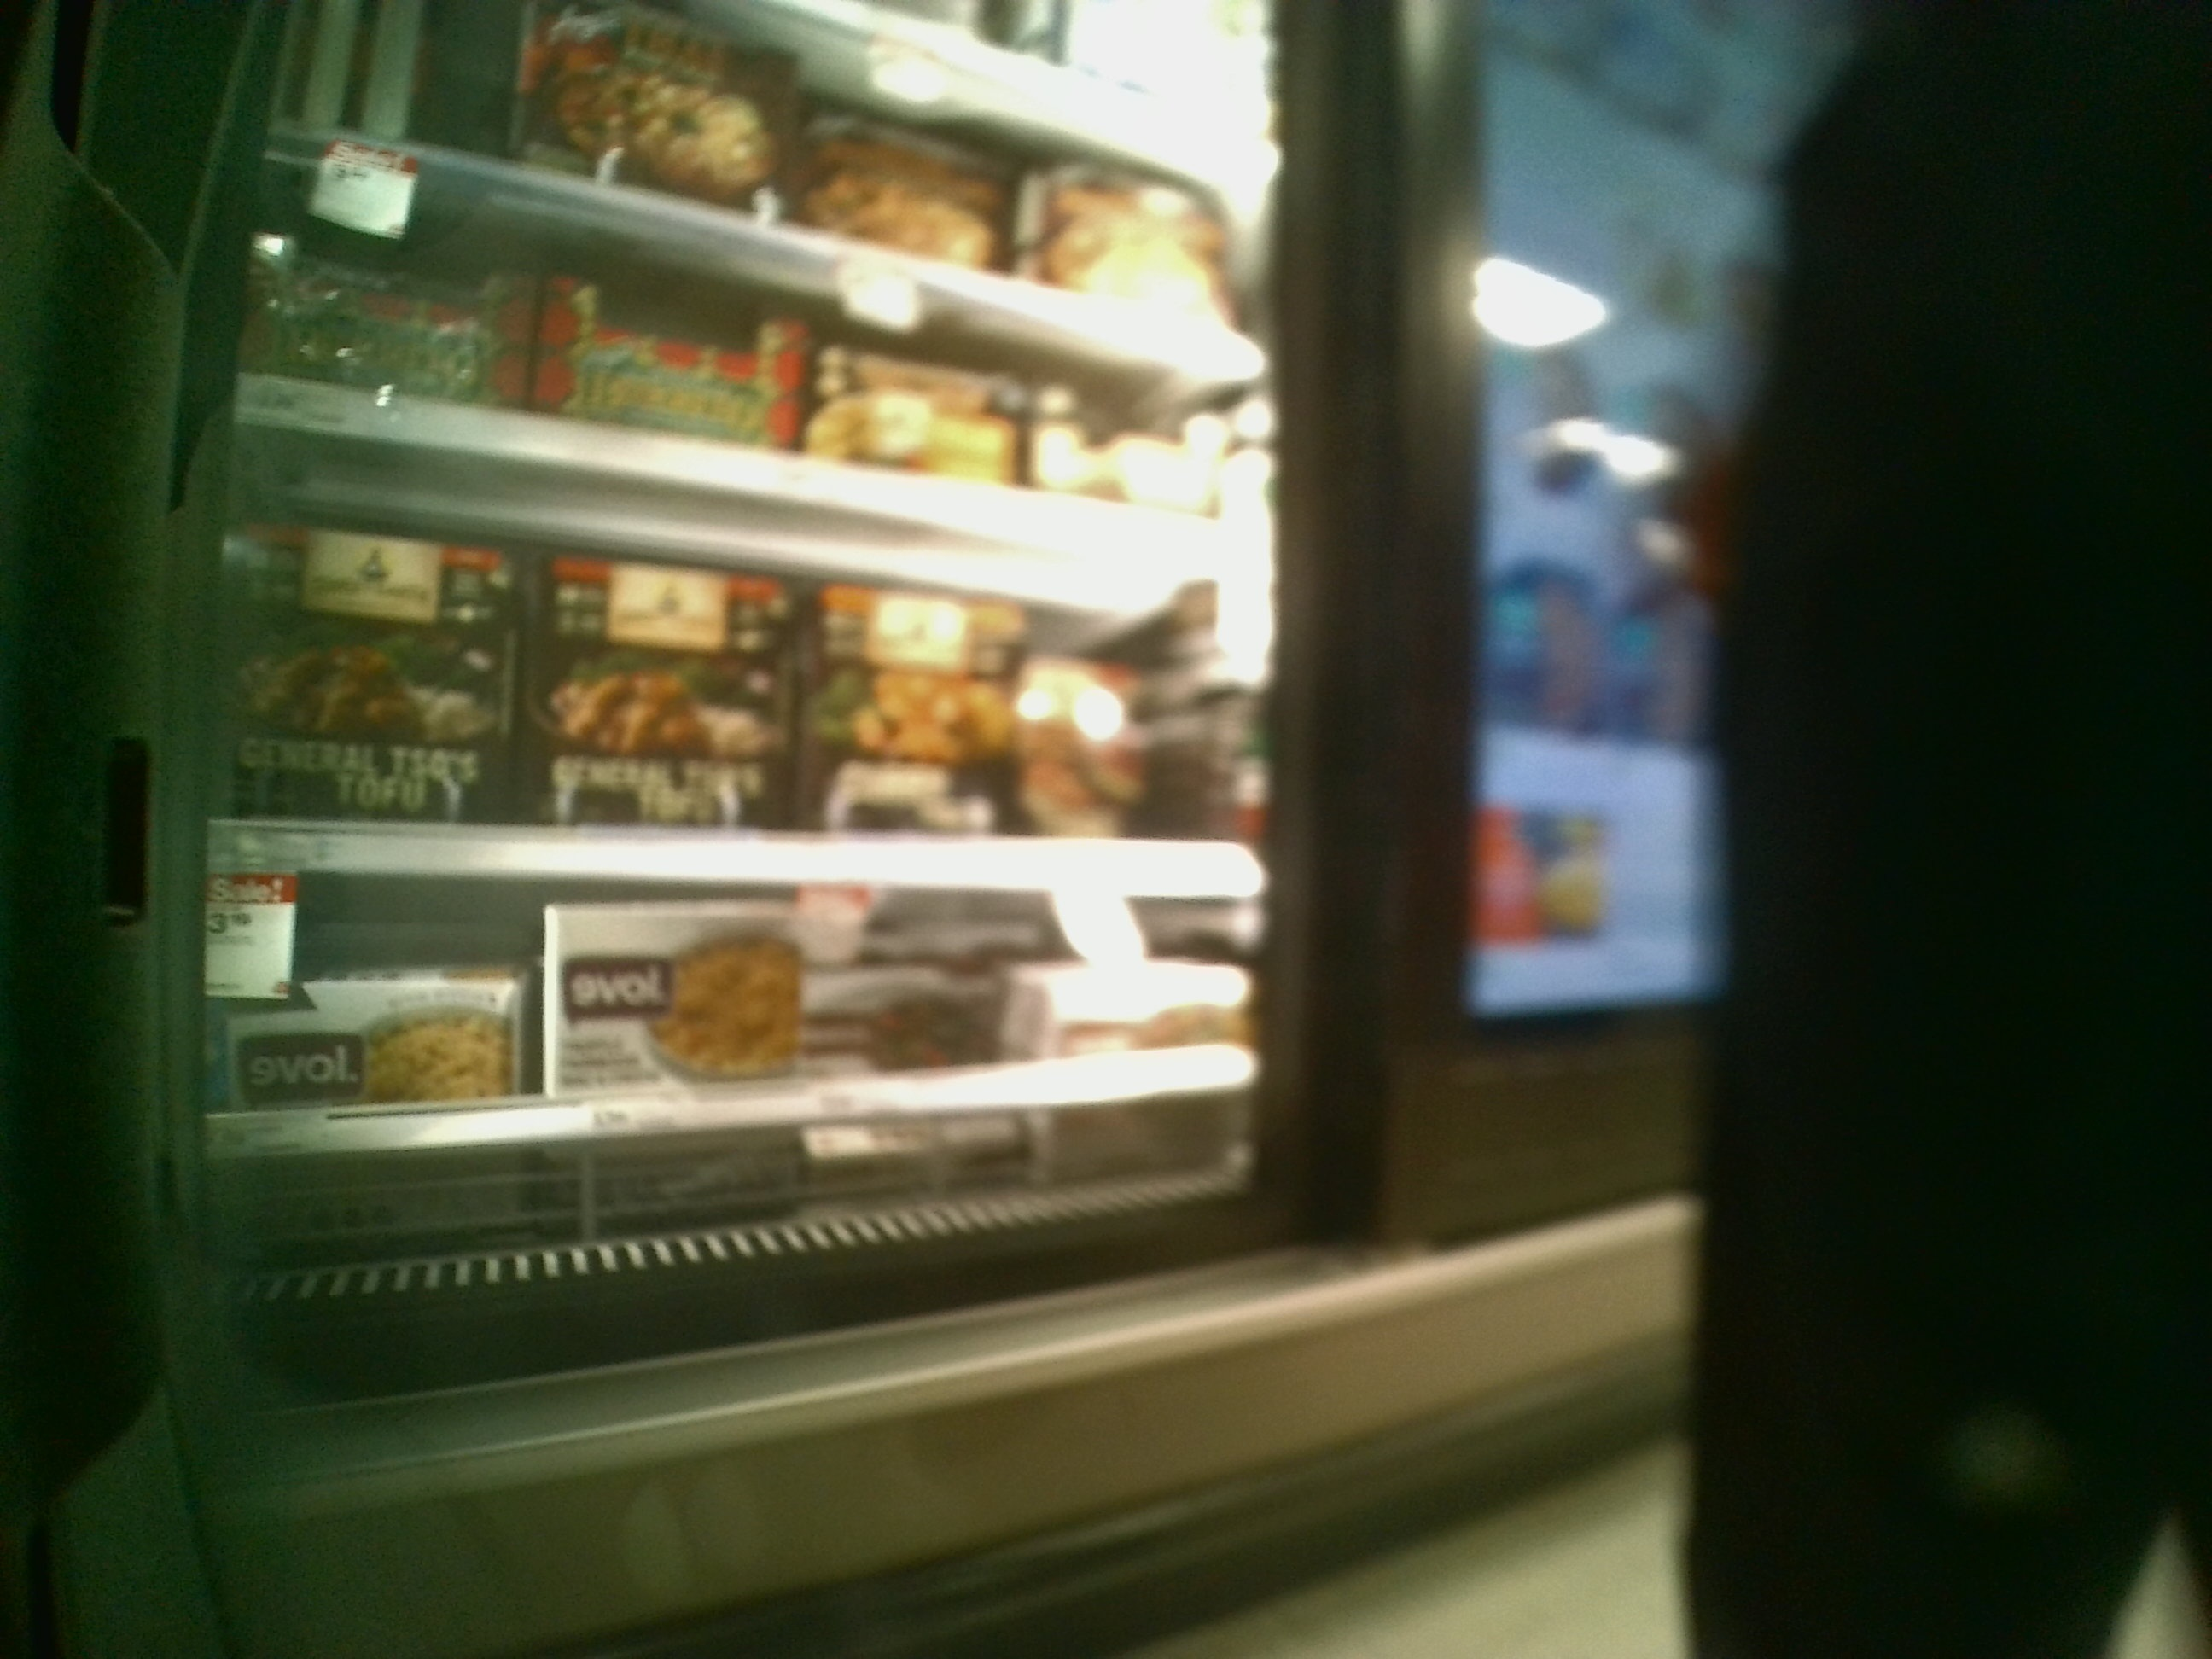frozen-food-shelf: (148, 882, 1282, 1171)
